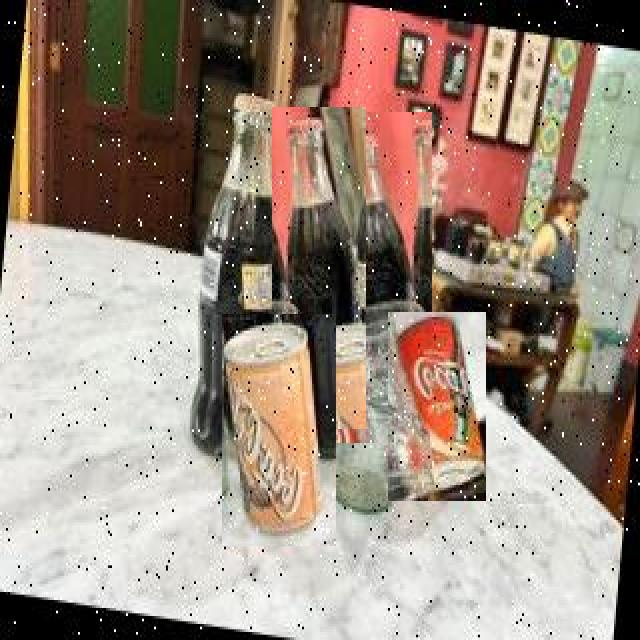coca-cola: (174, 85, 298, 467), (332, 112, 432, 443), (272, 107, 366, 429), (222, 314, 336, 546), (388, 312, 486, 501)
